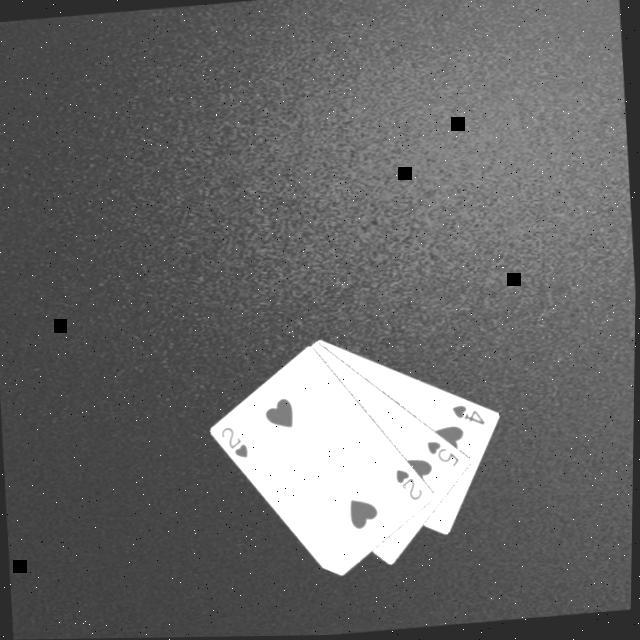2H: (219, 422, 254, 462), (394, 464, 428, 504)
4H: (450, 400, 490, 430)
5H: (424, 436, 464, 472)
